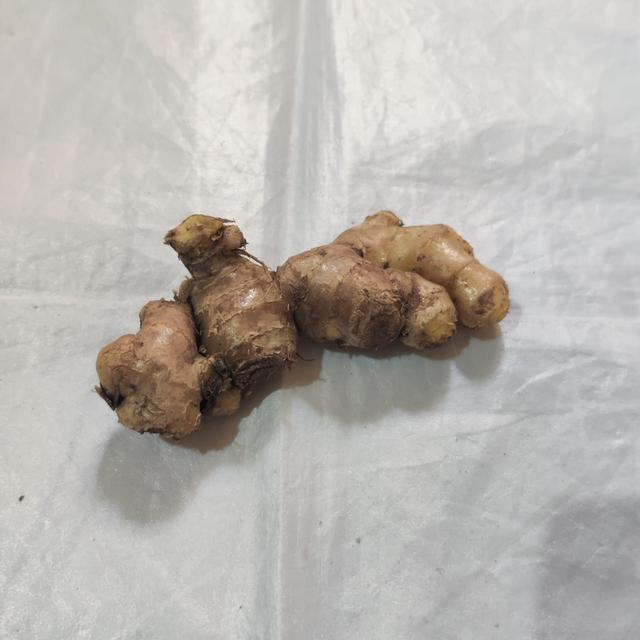Organik: (79, 154, 518, 480)
